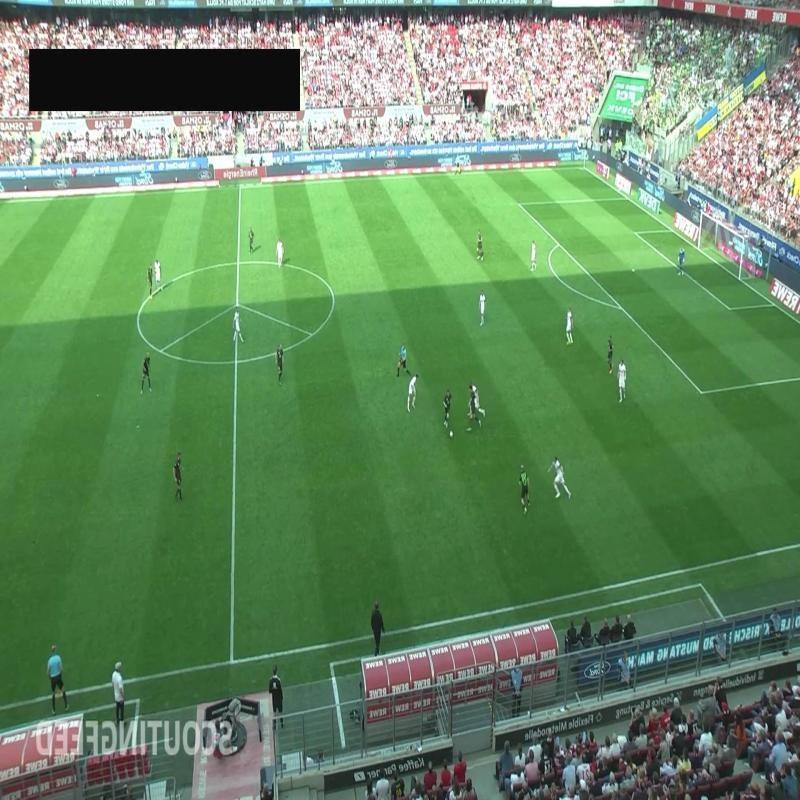1: (576, 159, 590, 173)
10: (552, 238, 566, 251)
11: (614, 300, 628, 314)
12: (694, 386, 708, 400)
13: (233, 181, 246, 195)
14: (231, 255, 244, 268)
15: (228, 354, 242, 368)
16: (224, 654, 240, 670)
2: (619, 190, 633, 204)
3: (664, 221, 678, 235)
4: (767, 297, 781, 310)
7: (628, 224, 642, 238)
8: (722, 300, 736, 314)
9: (512, 197, 526, 211)
c: (326, 289, 340, 303), (132, 308, 146, 322)
